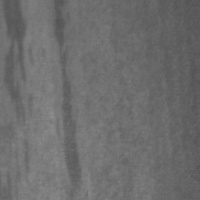inclusion: (49, 2, 86, 196), (1, 5, 33, 125), (3, 120, 32, 200)
